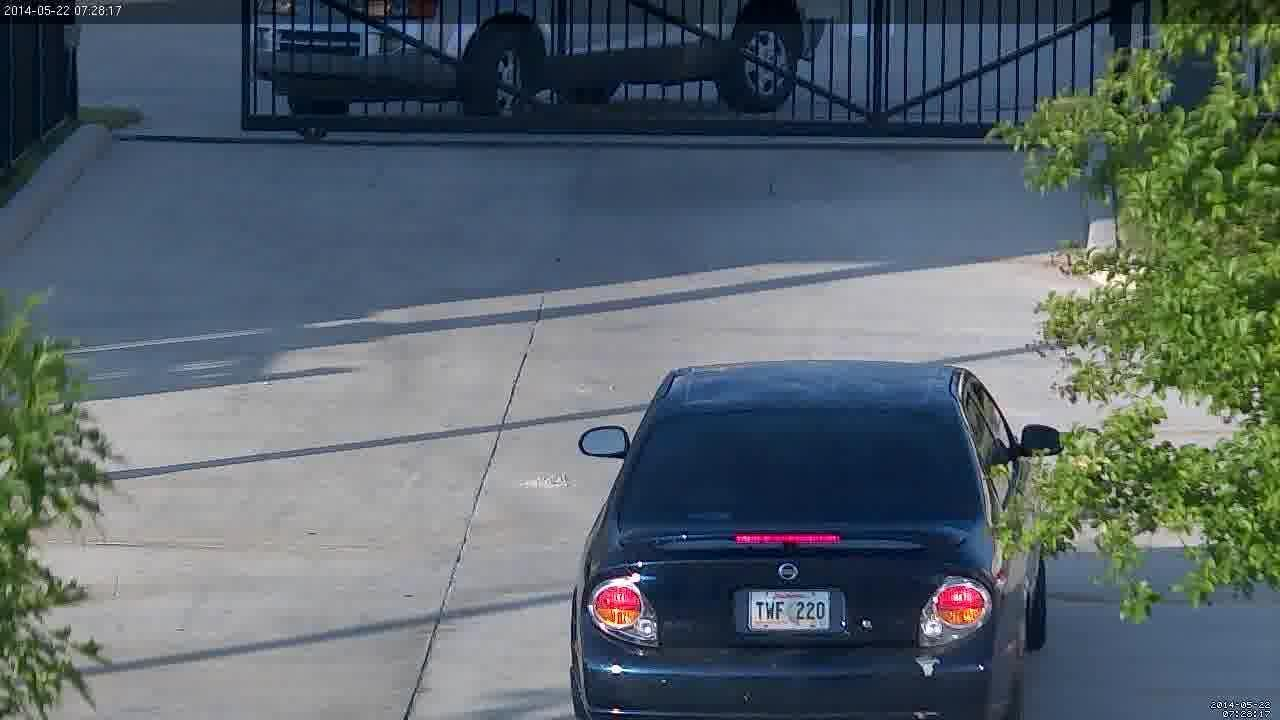placa de veiculo: (725, 553, 870, 660)
